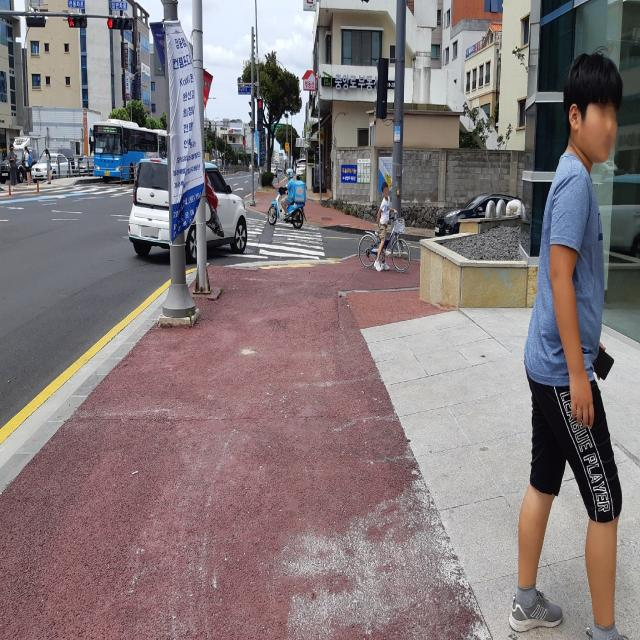횡단보도: (217, 217, 325, 260)
